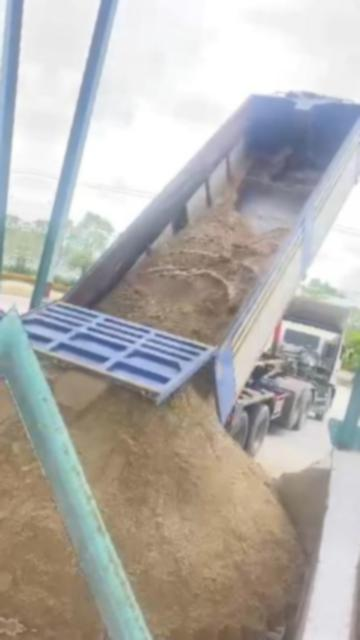sand: (37, 368, 303, 640), (96, 195, 289, 344), (0, 390, 101, 640), (272, 462, 329, 564)
